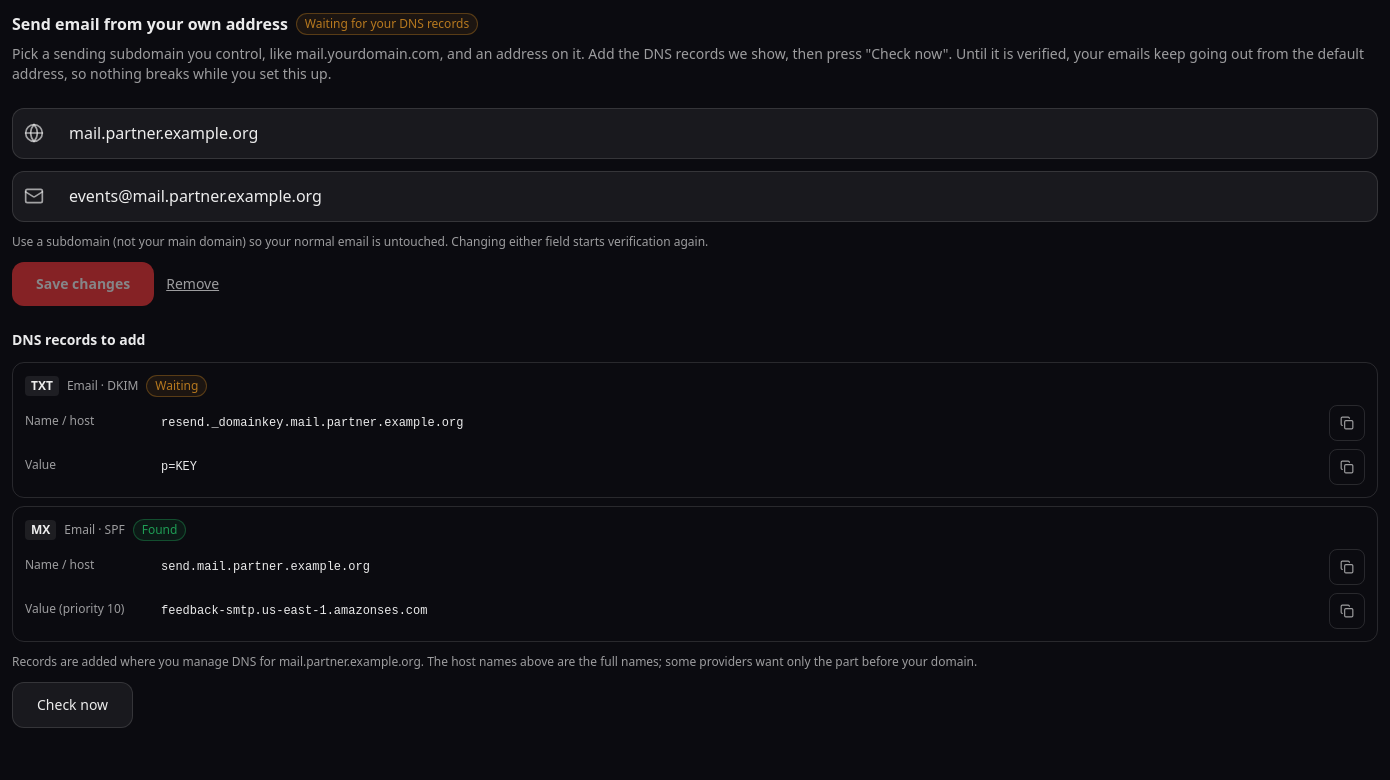
Scenario: EmailDomainPanel › check now verifies and reports it
Click the button "Check now" at (73, 705), box [12,682,133,728]
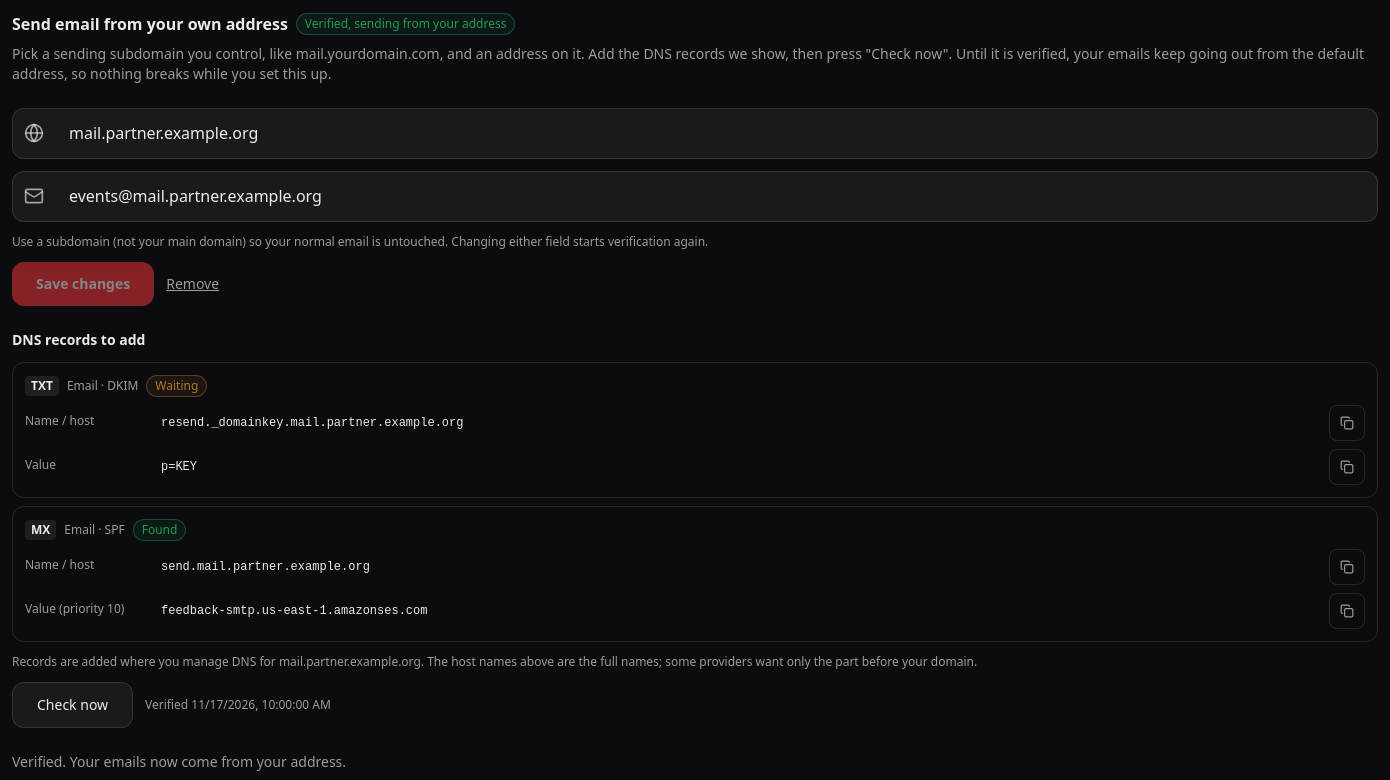
Expected: the text "Verified. Your emails now come from your address." is shown, [12,752,346,771]
Expected: the text "Verified, sending from your address" is shown, [296,13,516,35]
